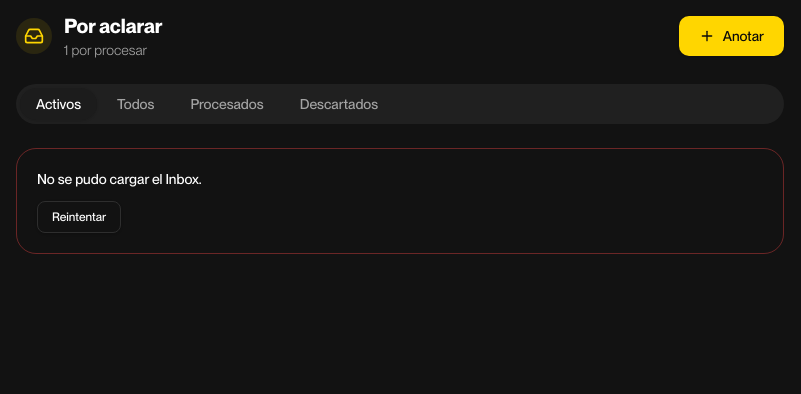
Test case: InboxPage › shows a retryable loading error instead of an empty Inbox
The width and height of the screenshot is (801, 394).
Expected: the message shows "No se pudo cargar el Inbox", left=37, top=171, right=202, bottom=187
Expected: the text "Inbox vacío" is not shown
Step 1. Click the button "Reintentar" → (79, 217), box left=37, top=201, right=121, bottom=233
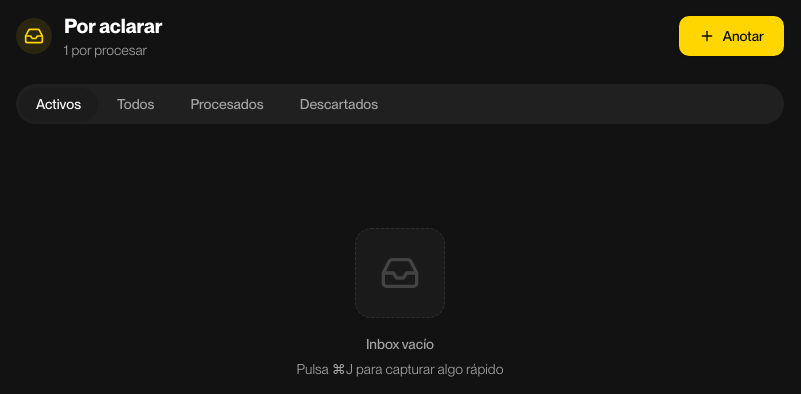
Expected: the text "Inbox vacío" is shown, left=366, top=336, right=434, bottom=352
